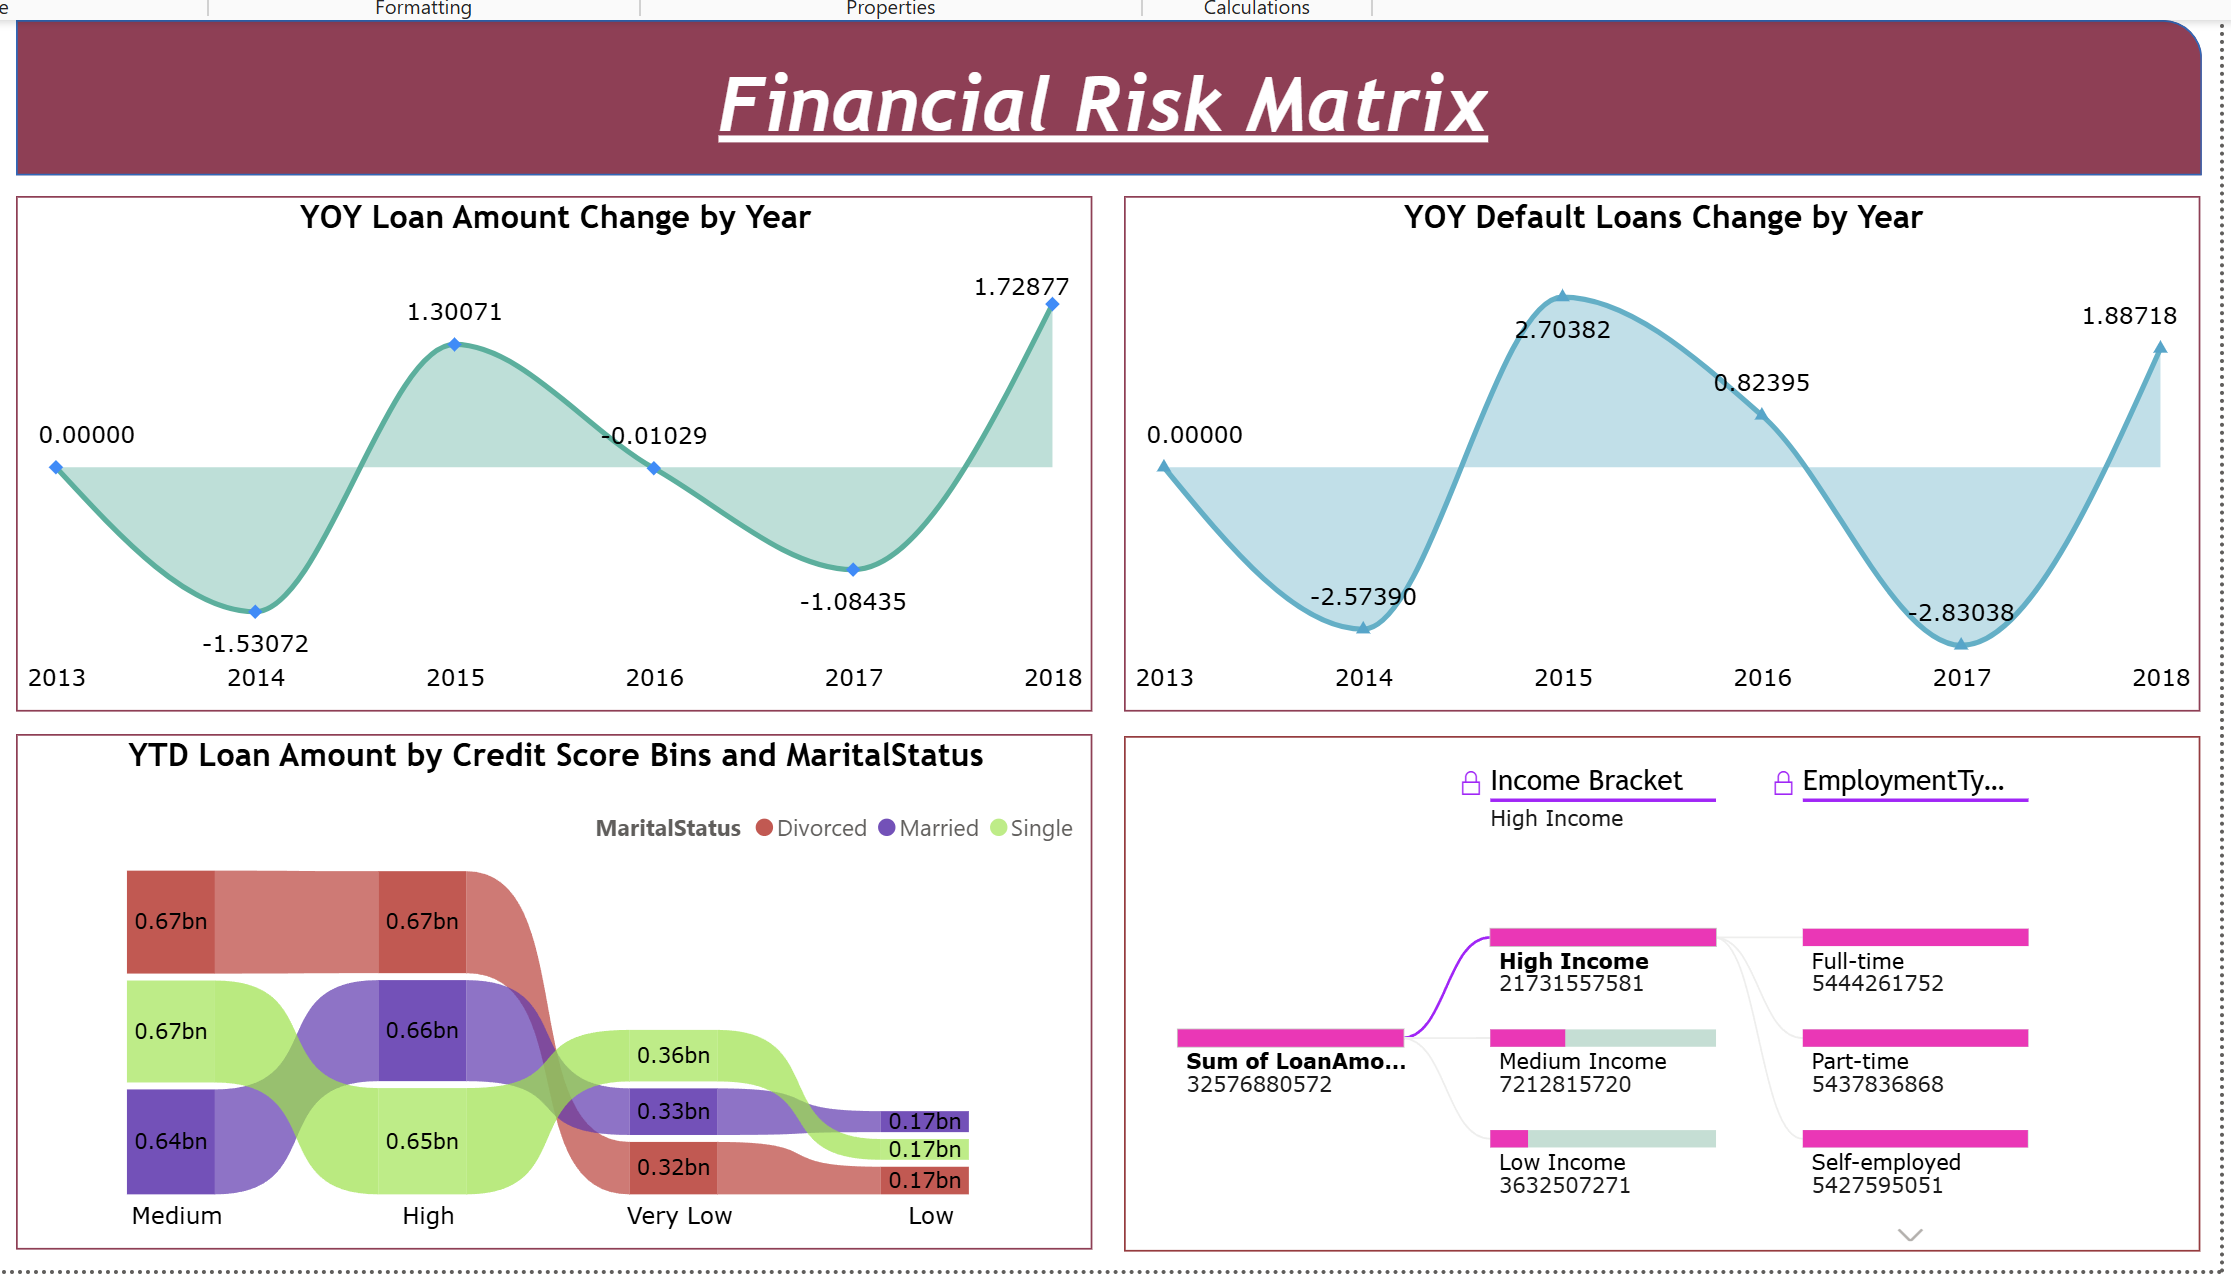

The dashboard page shown, as its layout file describes it:
{"tool":"powerbi","page":{"name":"Financial Risk Matrix","canvas":[1280,720],"ordinal":2},"visuals":[{"type":"shape","box":[10.4,0,1259.2,89.6],"z":0},{"type":"lineChart","fields":{"Category":["Loan_default.Year"],"Y":["Measures Table 3.YOY Loan Amount Change"]},"box":[10.4,101.3,620,297],"z":1000},{"type":"lineChart","fields":{"Category":["Loan_default.Year"],"Y":["Measures Table 3.YOY Default Loans Change"]},"box":[649.1,101.3,620,297],"z":2000},{"type":"ribbonChart","fields":{"Category":["Loan_default.Credit Score Bins"],"Series":["Loan_default.MaritalStatus"],"Y":["Measures Table 3.YTD Loan Amount"]},"box":[10.4,411.5,620,297],"z":2001},{"type":"decompositionTreeVisual","fields":{"Analyze":["Sum(Loan_default.LoanAmount)"],"ExplainBy":["Loan_default.Income Bracket","Loan_default.EmploymentType"]},"box":[649,412,620,297],"z":2002}]}

Visuals, with their boxes on the page's 1280x720 design canvas (x1, y1, x2, y2). These are canvas units, not pixel positions in the 2231x1284 screenshot, which may show the page scaled, cropped or inside an application window:
shape: box(10, 0, 1270, 90)
lineChart - Loan_default.Year x Measures Table 3.YOY Loan Amount Change: box(10, 101, 630, 398)
lineChart - Loan_default.Year x Measures Table 3.YOY Default Loans Change: box(649, 101, 1269, 398)
ribbonChart - Loan_default.Credit Score Bins x Loan_default.MaritalStatus: box(10, 412, 630, 708)
decompositionTreeVisual - Sum(Loan_default.LoanAmount) x Loan_default.Income Bracket: box(649, 412, 1269, 709)
